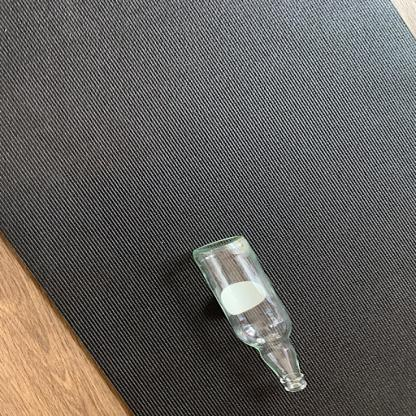trash: (196, 234, 319, 403)
